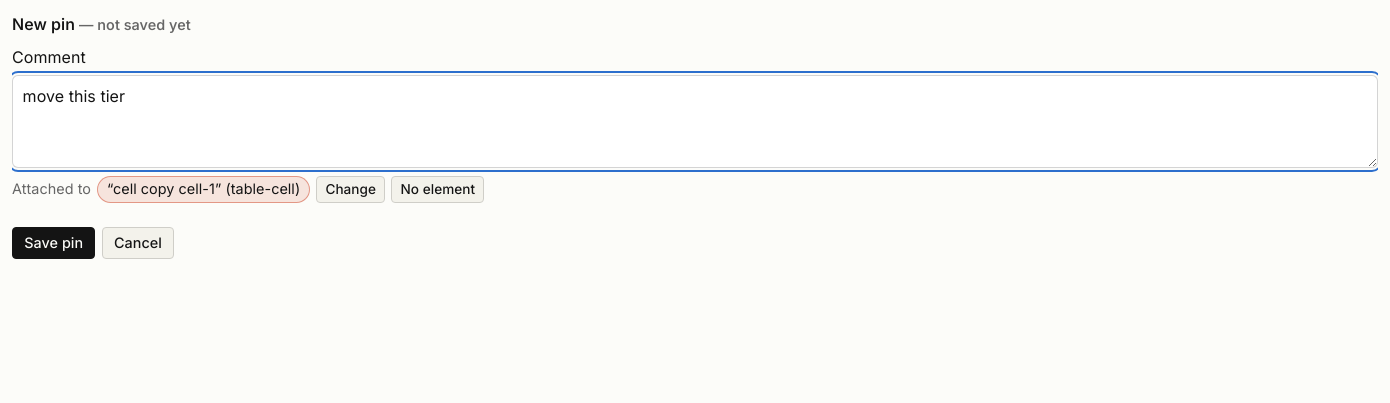
Change: the ranked list › expands the candidates as radios in ranked order with No element last
What coordinates should you click on to do the following:
click the button "Change"
I would click on:
 (351, 189)
Its box is [316,176,385,203].
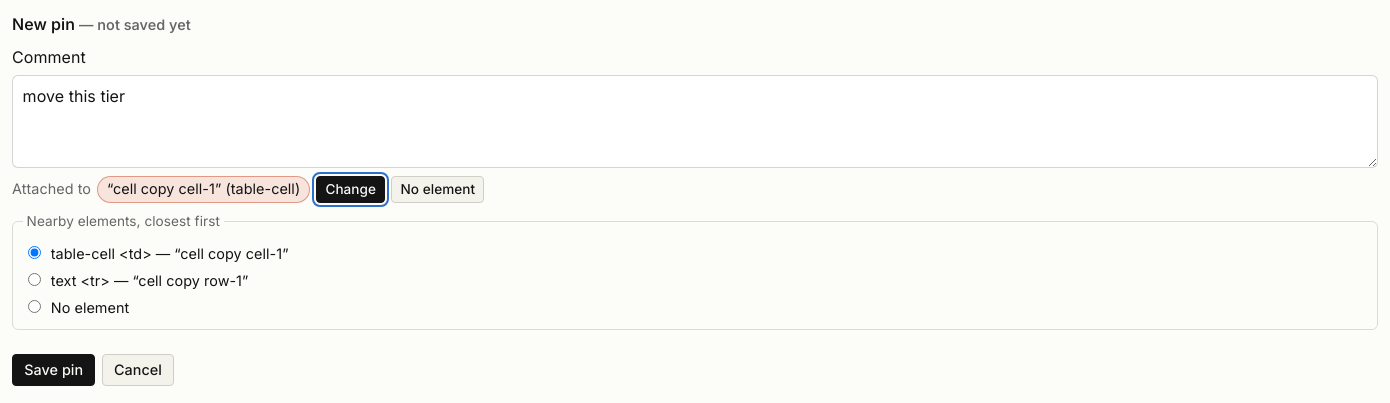
Now the number of radio buttons is 3, box [28,246,41,258]; [28,273,41,286]; [28,300,41,313]
Now the radio button labelled "table-cell <td> — “cell copy cell-1”" is checked, box [28,246,41,258]
Now the button "Change" is expanded, box [316,176,385,203]
